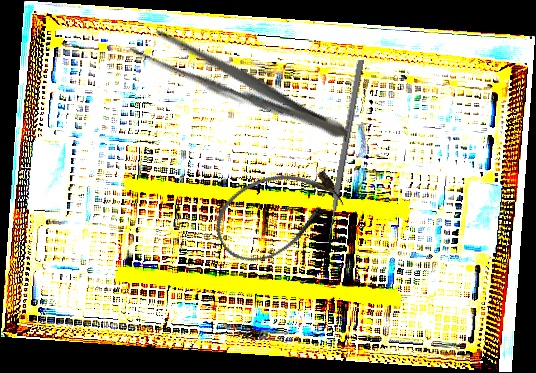Cannula: (203, 151, 352, 275)
Dressing Forceps: (127, 20, 355, 151)
Pusher: (323, 59, 365, 250)
